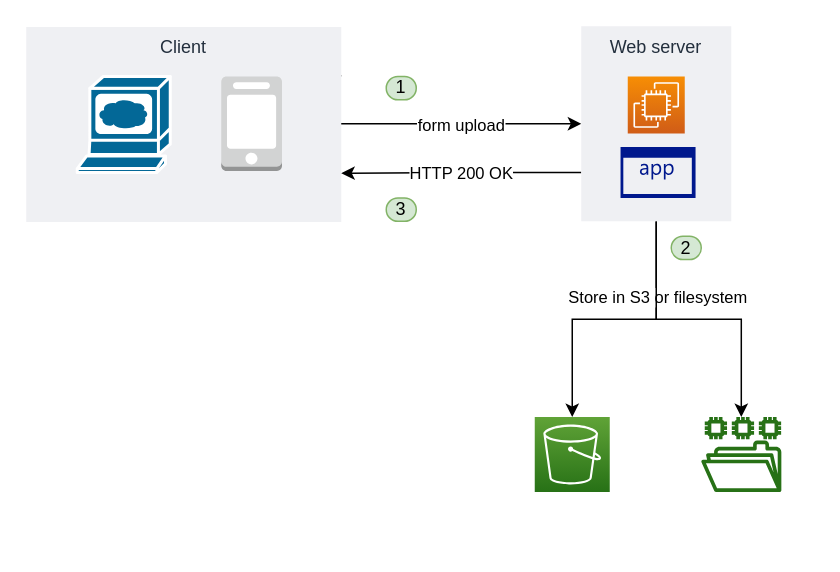
The diagram is 840 pixels wide and 572 high, and some of its shapes have lost their labels. The centre of each missing label's shape, as x and y in pixels:
Store in filesystem (Block storage): (x=740, y=453)
Store in S3 (Object storage): (x=571, y=454)
